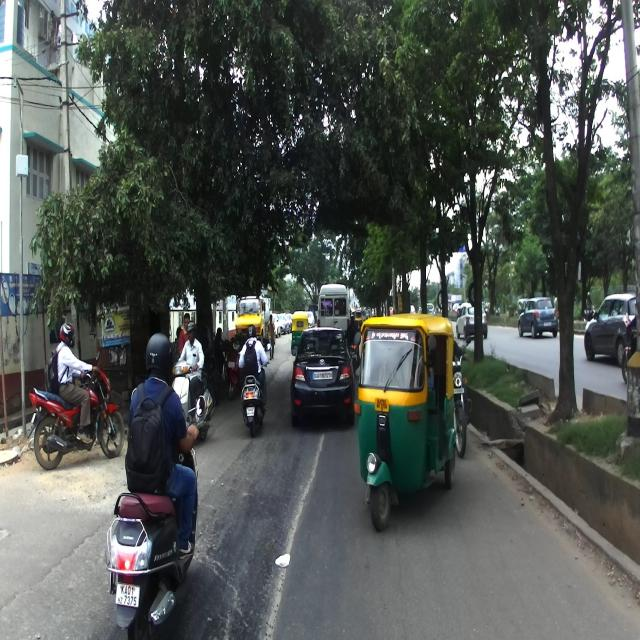Car_Hyundai: (290, 326, 355, 425)
autorickshaw: (353, 313, 456, 531)
mini-bus: (316, 282, 349, 324)
motorcycle_RoyalEnfield: (444, 333, 472, 458)
motorcycle_TVS: (26, 350, 126, 471)
scooter: (104, 386, 206, 639), (170, 359, 216, 440), (240, 342, 271, 437)
